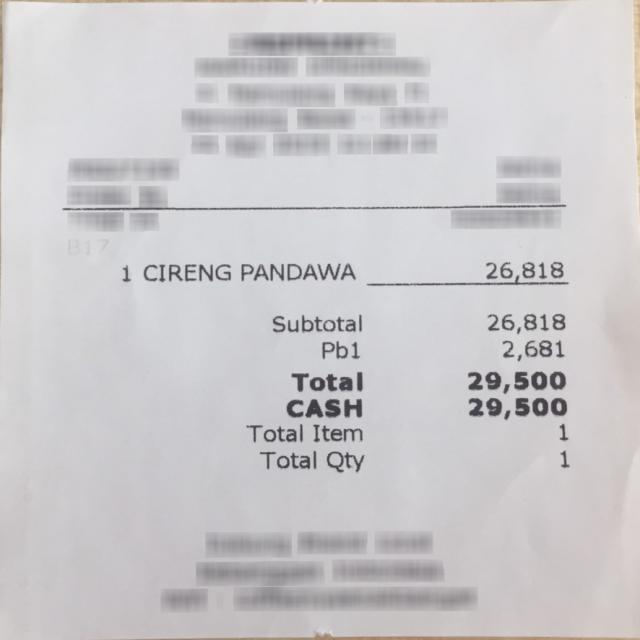text: (467, 370, 565, 393), (468, 397, 566, 419), (240, 262, 354, 280), (140, 263, 230, 283), (482, 261, 566, 282), (271, 313, 362, 332), (488, 313, 564, 333), (284, 398, 360, 416), (501, 338, 562, 359), (290, 371, 360, 389), (258, 448, 315, 468), (246, 423, 301, 441), (325, 450, 363, 472), (312, 424, 361, 441), (320, 340, 359, 358), (119, 264, 132, 282), (559, 449, 567, 467), (558, 423, 566, 438)
